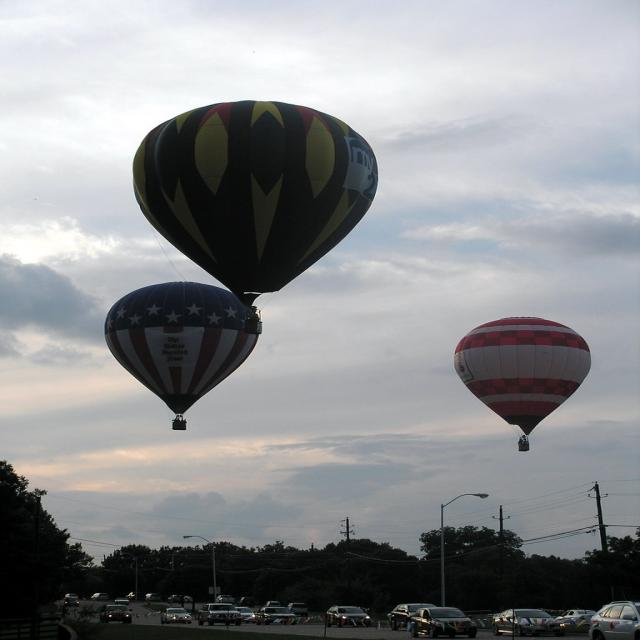balloon: (128, 101, 382, 323), (101, 284, 266, 442), (449, 317, 597, 457)
